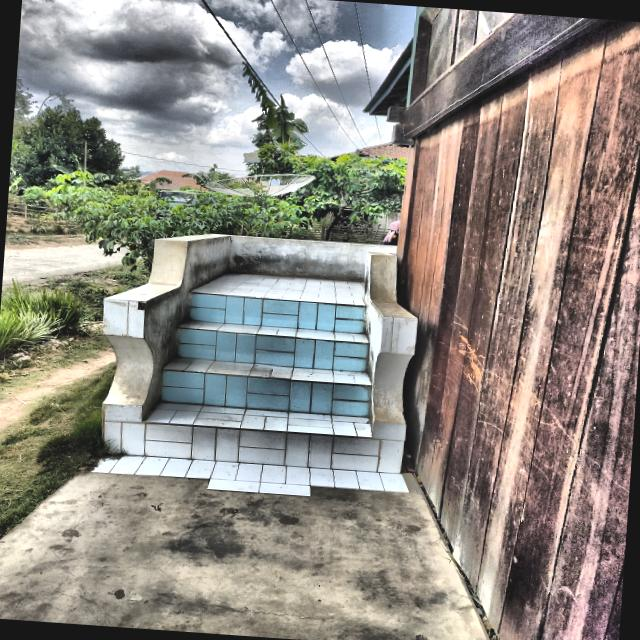ornamen: (409, 7, 517, 105)
stair: (100, 232, 418, 473)
wall: (394, 19, 640, 640)
